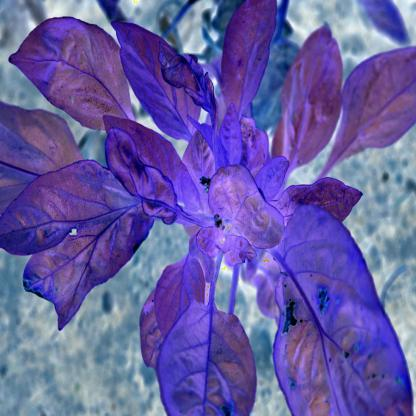bell pepper leaf spot: (274, 204, 409, 415), (11, 200, 154, 341), (156, 292, 259, 415)
